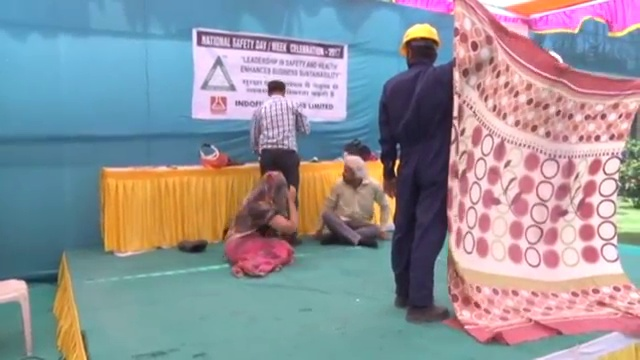helmet: (398, 22, 441, 56)
helmet_off: (261, 169, 286, 207), (341, 153, 364, 186), (266, 78, 287, 99)
helmet_on: (397, 21, 441, 70)
person: (375, 22, 452, 324), (227, 170, 299, 280), (248, 80, 311, 188), (321, 154, 390, 251)
